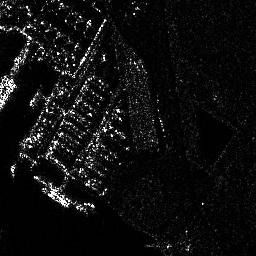ship: (41, 186, 71, 208)
